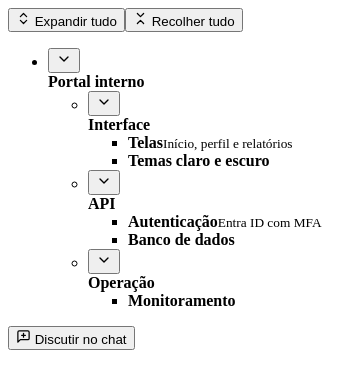
Test: folds and unfolds tree branches
The width and height of the screenshot is (339, 367).
Later steps or results of the test are not shown.
Expected: the list named "Estrutura do projeto" is shown, [48,48,322,309]
Step 1. Click the button named "Recolher Interface" → x=104, y=104, box [88,91,120,116]
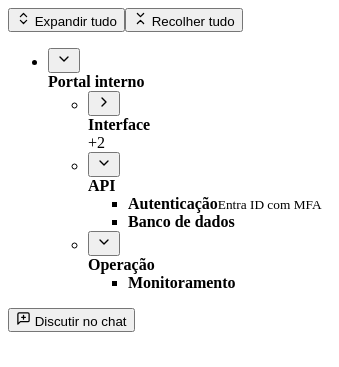
Expected: the text "Telas" is gone
